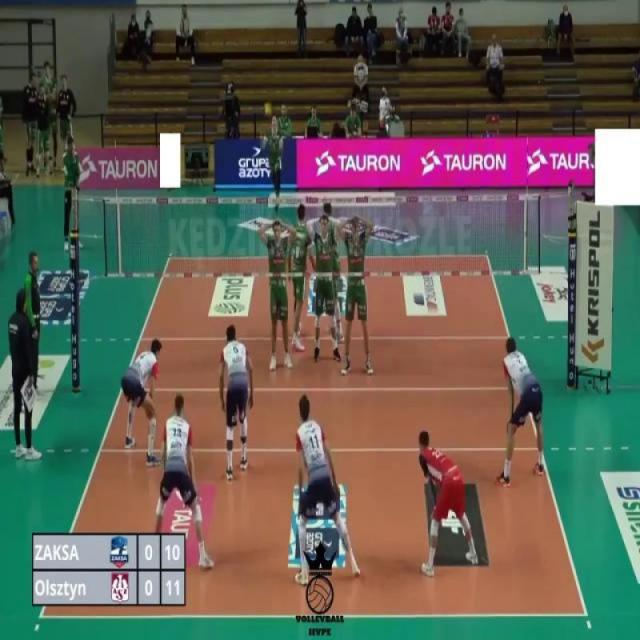volleyball: (262, 98, 274, 118)
